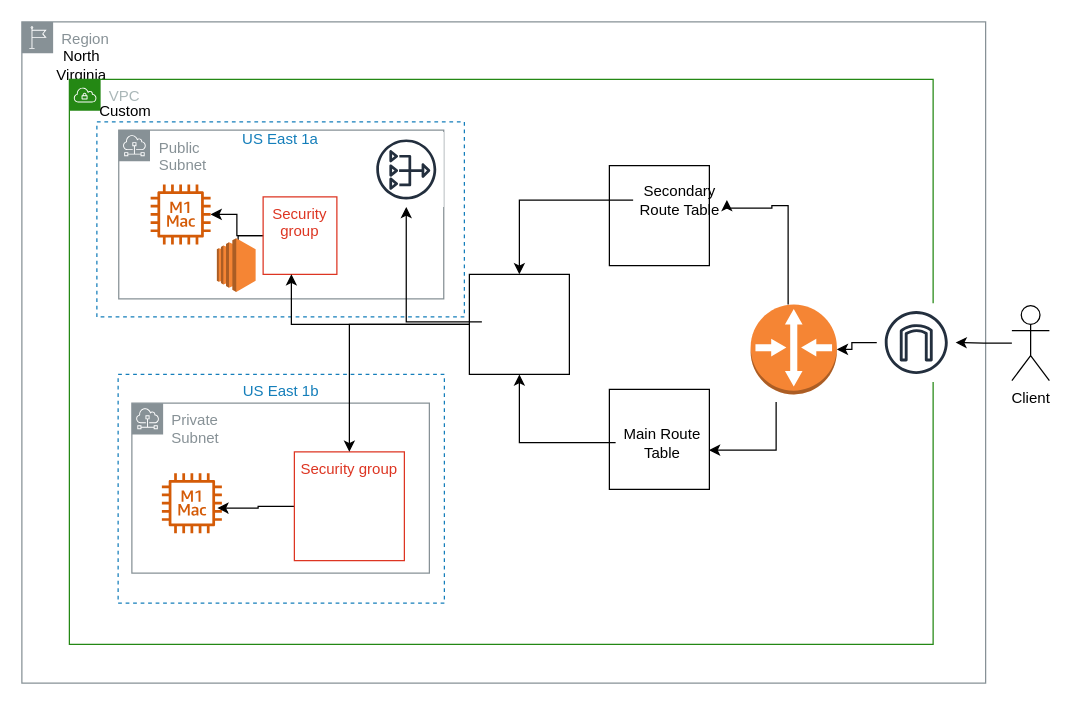
This 1071x705 diagram has some shape labels left out. The shapes that lost their labels are listed below. From the top down, each one's centre as x and y in pixels, then its label:
the point at 406,169: NAT gateway
the point at 518,323: NACL
the point at 916,342: Internet gateway
